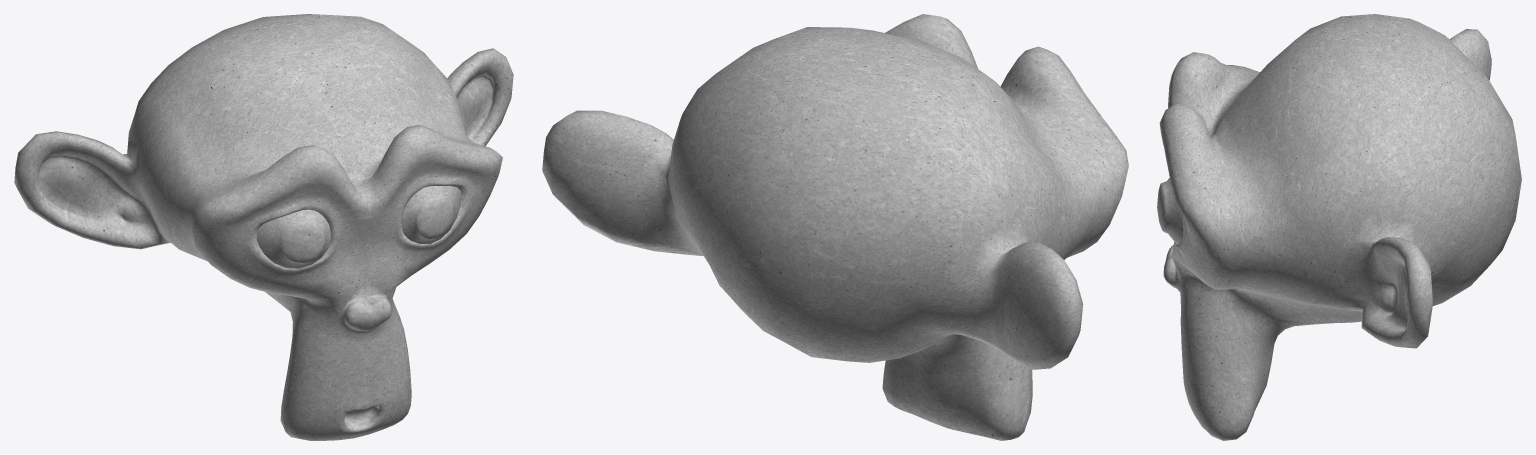
File: 02_suzanne.gltf
3 renders of one model, left to right at view 1: azimuth 30°, elevation 25°; view 2: azimuth 150°, elevation 25°; view 3: azimuth 270°, elevation 25°, orthographic. The views are drawn at different scales.
Visible parts, largest first — view 1: Suzanne; view 2: Suzanne; view 3: Suzanne.
Part boxes in pixels (<box>): Suzanne: <box>14,14,513,440</box>; Suzanne: <box>542,14,1128,440</box>; Suzanne: <box>1157,14,1521,440</box>.
Bounding box in the file's own units: 2.66 × 1.92 × 1.65.
Materials: 1 (1 with a texture image).
